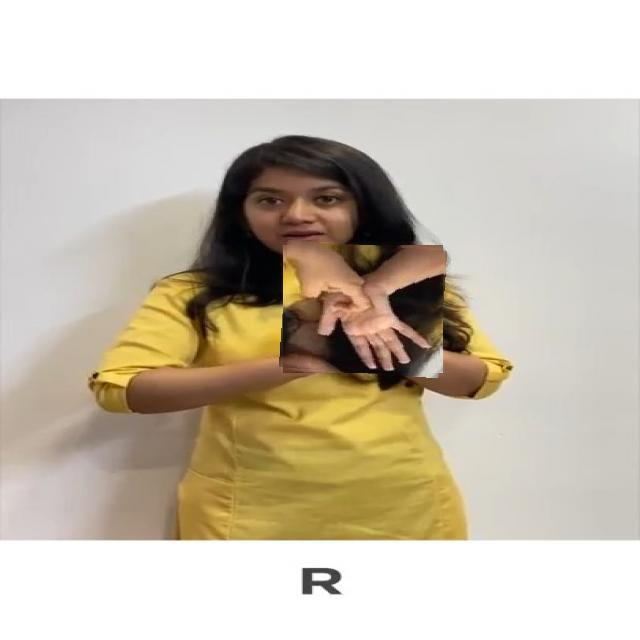R: (281, 242, 445, 376)
